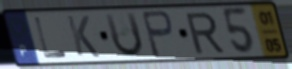5: (219, 6, 256, 58)
K: (64, 14, 102, 60)
L: (32, 16, 70, 60)
P: (140, 9, 176, 60)
R: (183, 11, 227, 56)
U: (102, 10, 146, 60)
